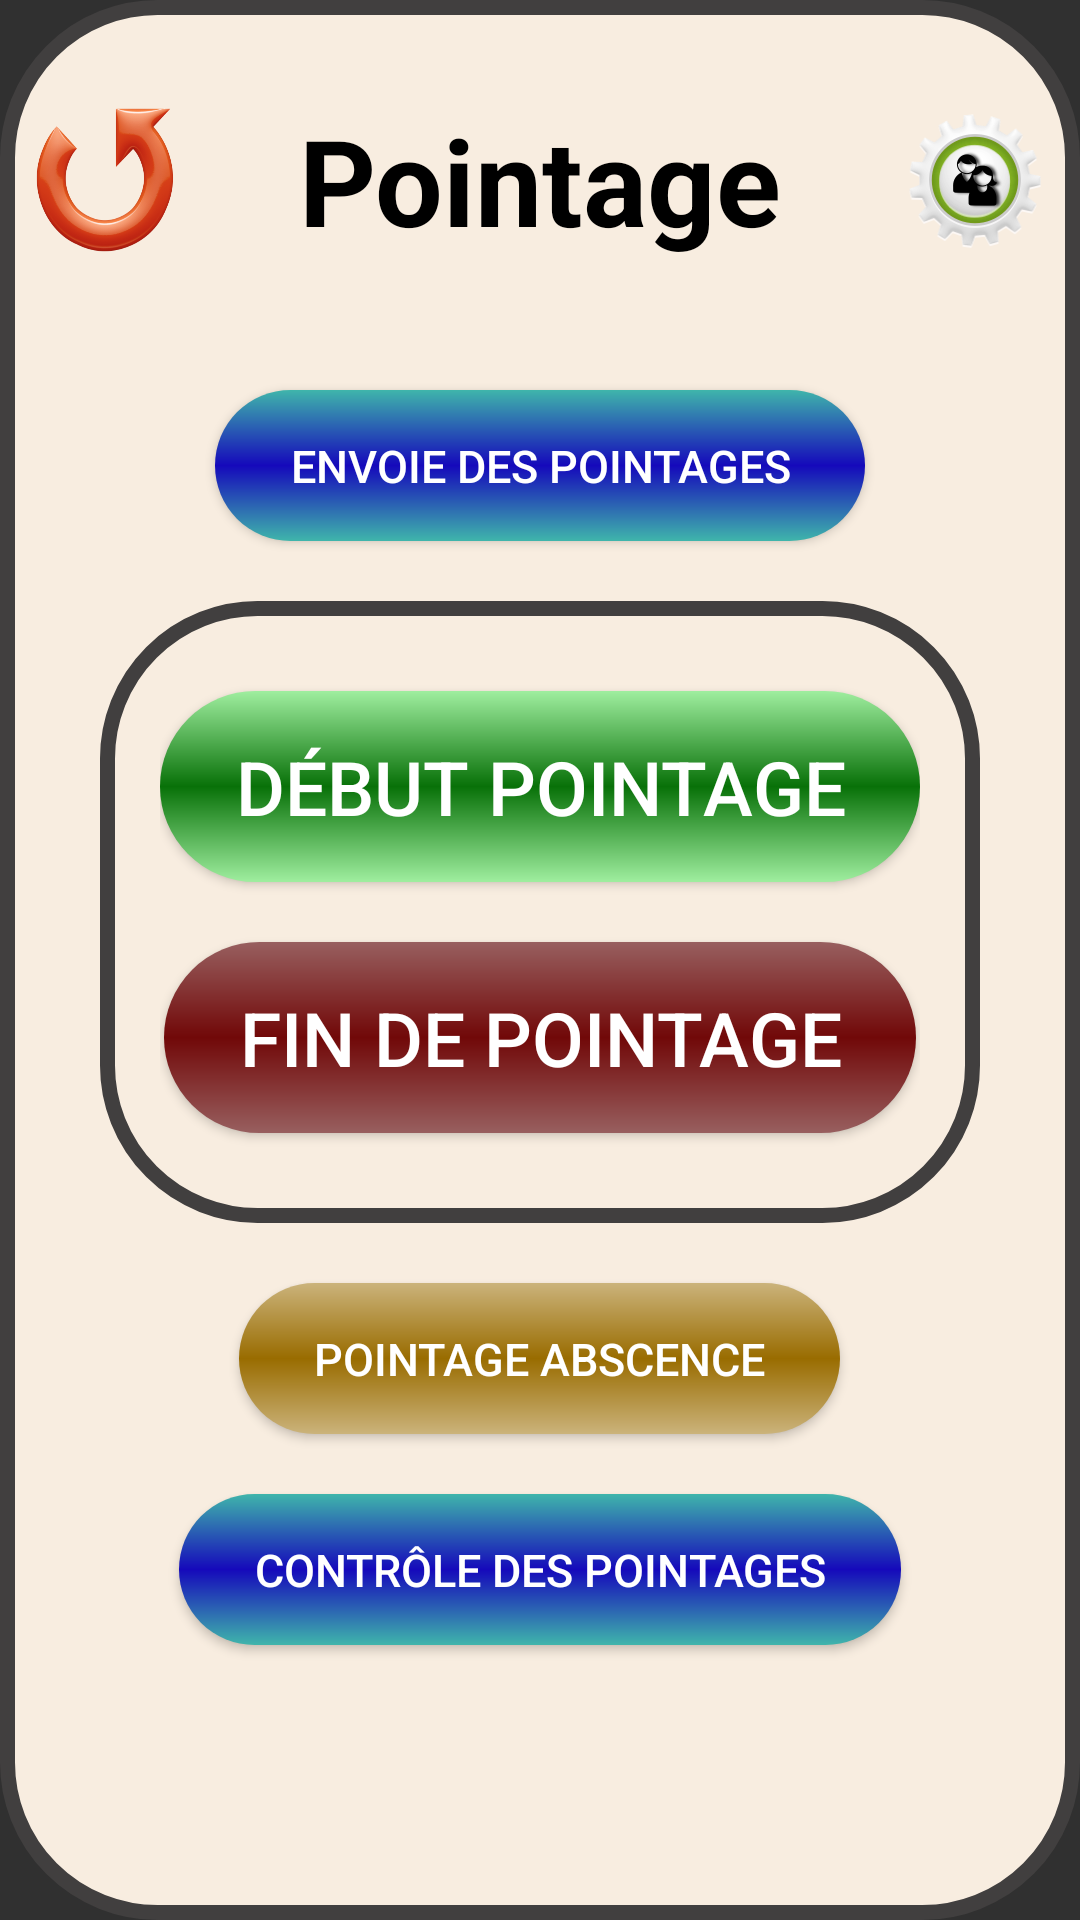

Icons on this 1080x1920 Android screen, each with the point to tap as [x,y]:
parametres: [975,180]
retour: [105,180]
